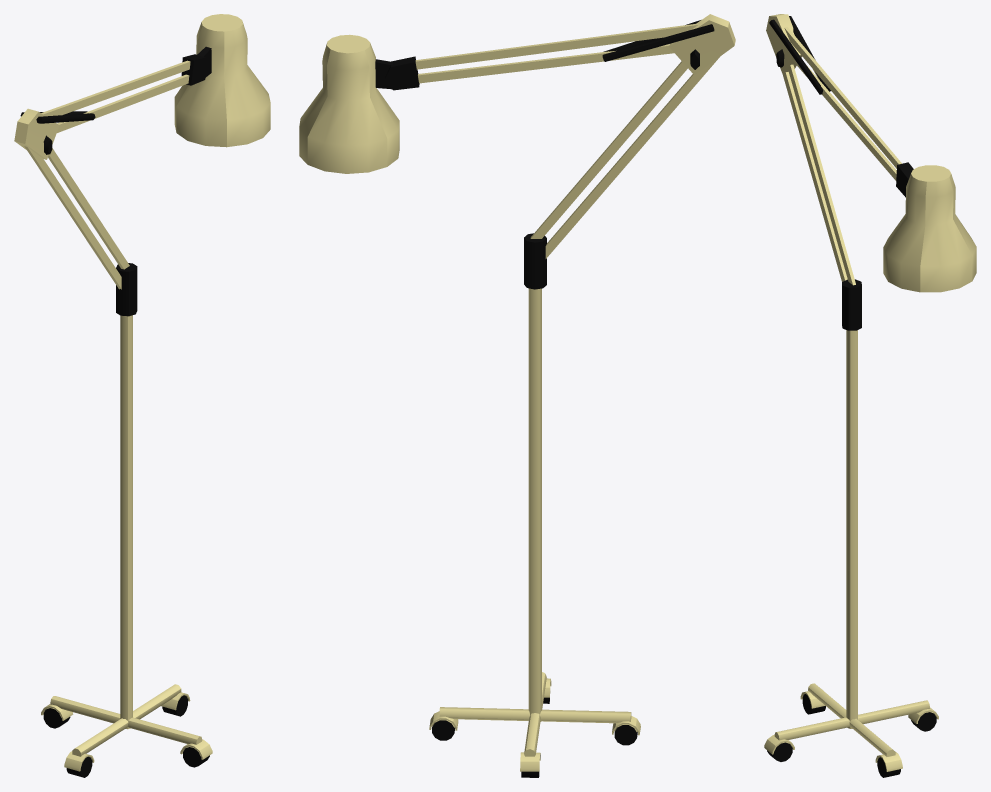
File: LAMPAPOL.fbx
The picture shows the model from 3 angles, left to right: view 1: azimuth 30°, elevation 25°; view 2: azimuth 150°, elevation 25°; view 3: azimuth 270°, elevation 25°; orthographic projection. The views are drawn at different scales.
Parts seen in each view (by area): view 1: LAMPA(POL); view 2: LAMPA(POL); view 3: LAMPA(POL).
Part boxes in pixels (x1=…): LAMPA(POL): x1=14, y1=14, x2=270, y2=777; LAMPA(POL): x1=299, y1=14, x2=735, y2=777; LAMPA(POL): x1=764, y1=14, x2=976, y2=777.
Size of the model in its own units: 368 by 741 by 214.
